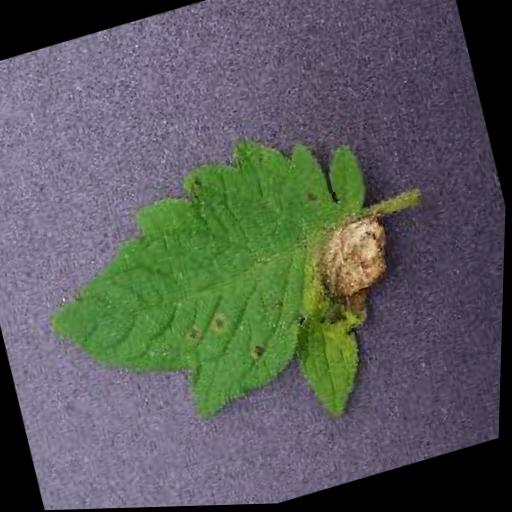Septoria: (14, 108, 431, 487)
